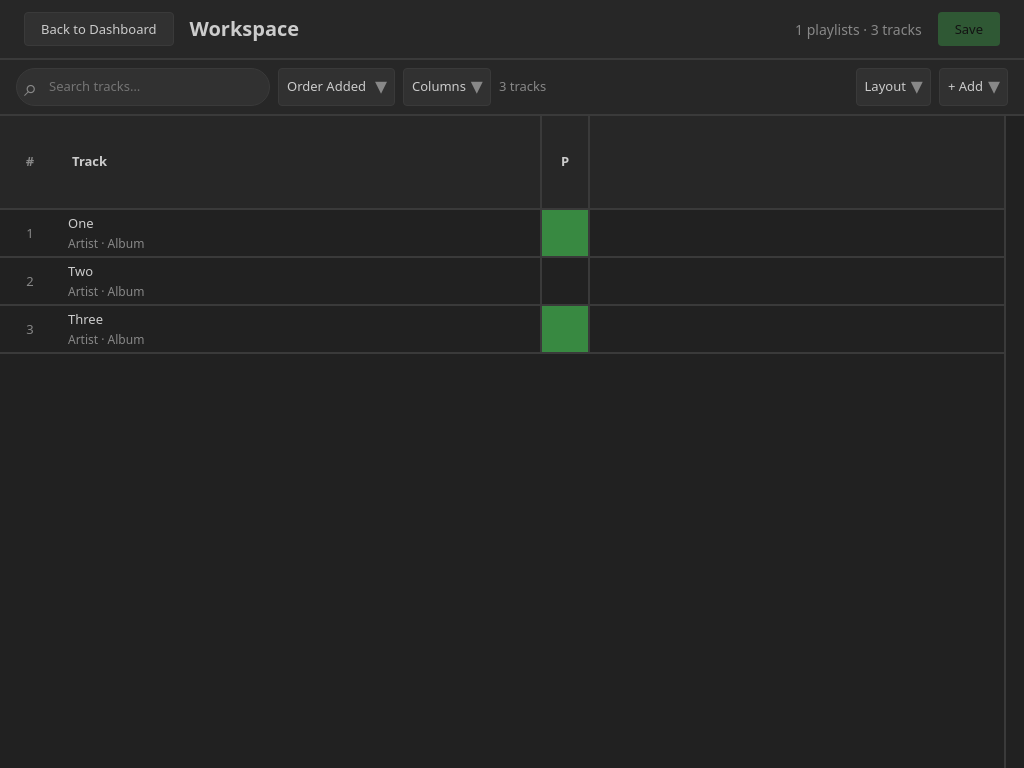
Scenario: WorkspaceView › sort by this playlist › orders playlist members first in playlist order, then everything else
The width and height of the screenshot is (1024, 768).
Right-click the element showing "P" at {"x": 564, "y": 162}, box 540,116 -> 588,208
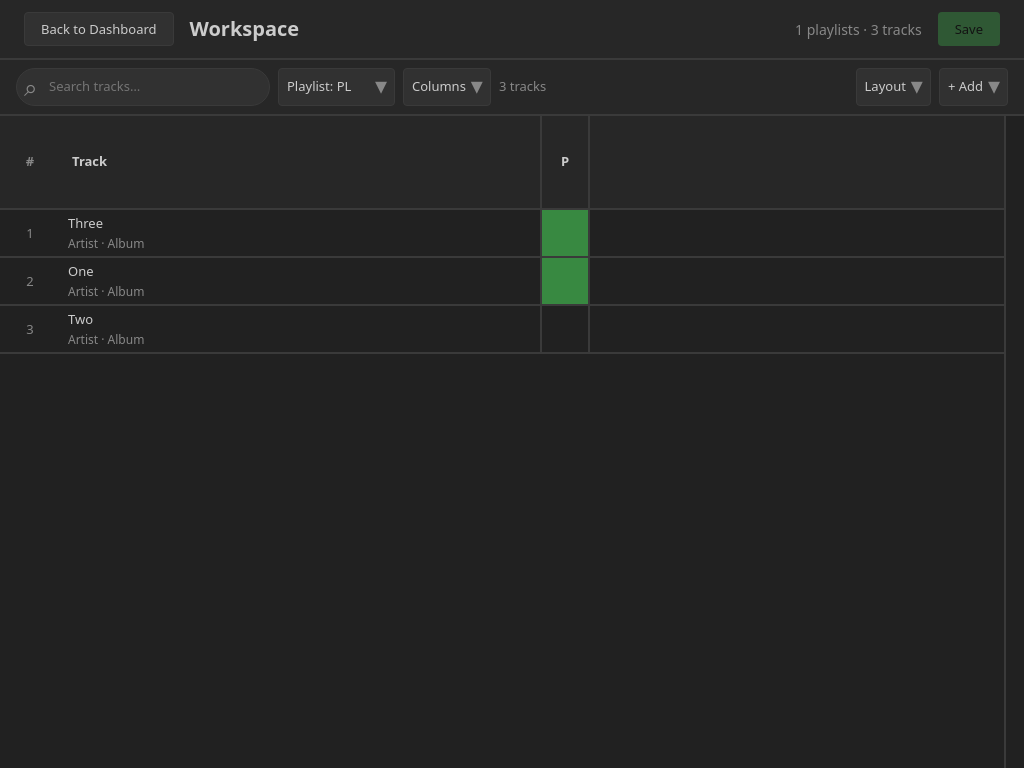
Check: the elements with class "track-row__title" read "Three", "One", "Two", in this order, box 68,214 -> 103,232; 68,262 -> 94,280; 68,310 -> 93,328
